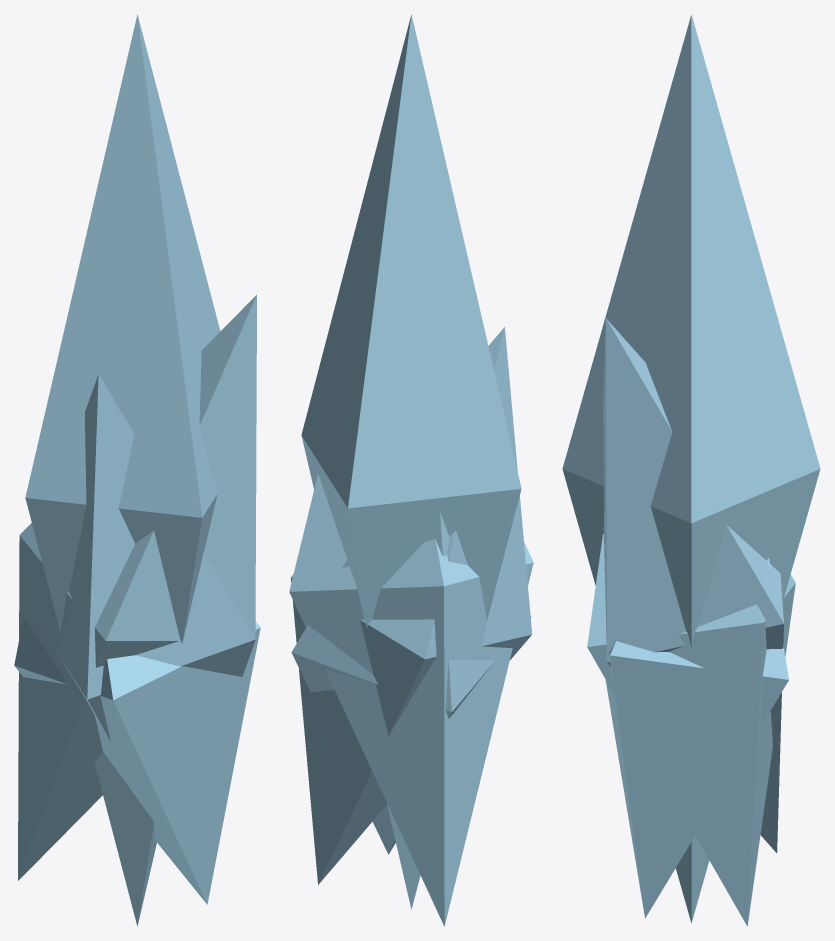
The model's file is Prop_Snow_IceCrystal.fbx.
3 renders of one model, left to right at view 1: azimuth 30°, elevation 25°; view 2: azimuth 150°, elevation 25°; view 3: azimuth 270°, elevation 25°, orthographic.
Visible parts, largest first — view 1: Prop_Snow_IceCrystal; view 2: Prop_Snow_IceCrystal; view 3: Prop_Snow_IceCrystal.
Boxes of the visible parts, x1,y1,x2,y2 form: Prop_Snow_IceCrystal: (14, 14, 260, 926); Prop_Snow_IceCrystal: (289, 14, 533, 926); Prop_Snow_IceCrystal: (562, 14, 820, 926).
Size of the model in its own units: 0.36 by 1.4 by 0.36.
